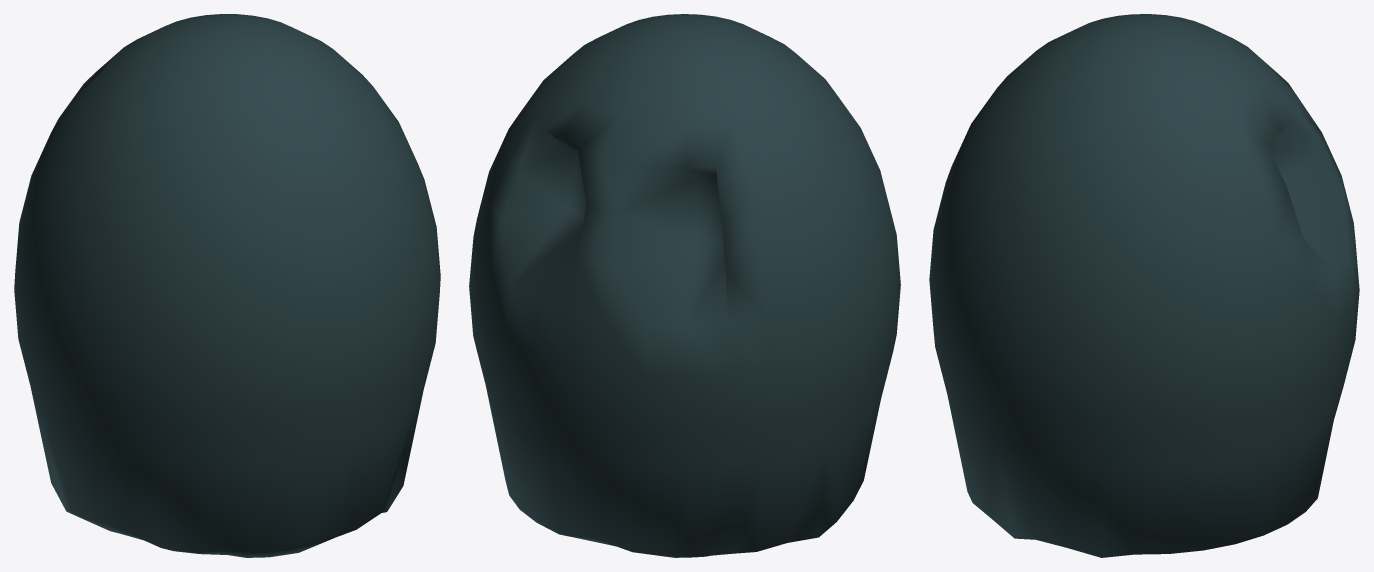
The model's file is enemy.obj.
3 views of the same model, side by side, from view 1: azimuth 30°, elevation 25°; view 2: azimuth 150°, elevation 25°; view 3: azimuth 270°, elevation 25° (orthographic).
Parts seen in each view (by area): view 1: 球; view 2: 球; view 3: 球.
Part boxes in pixels (bbox=[...]): 球: bbox=[14, 14, 440, 557]; 球: bbox=[469, 14, 900, 557]; 球: bbox=[929, 14, 1359, 557].
Size of the model in its own units: 4.66 by 5.68 by 4.66.
1 material, 1 textured.
